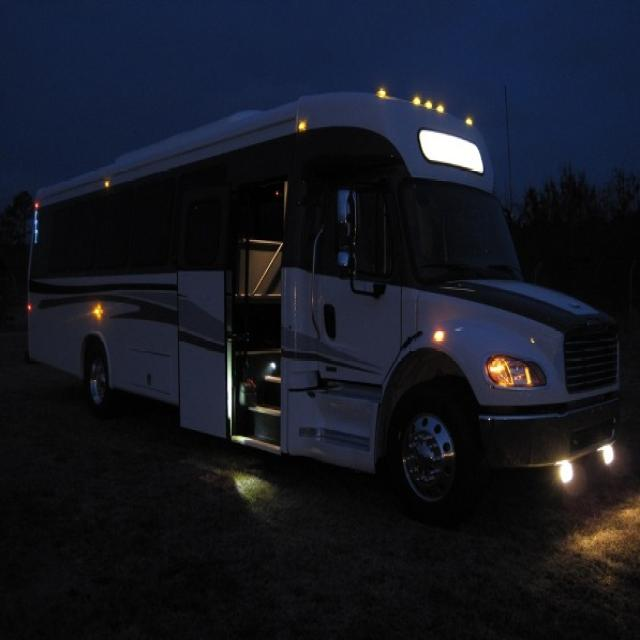Bus: (28, 112, 632, 540)
